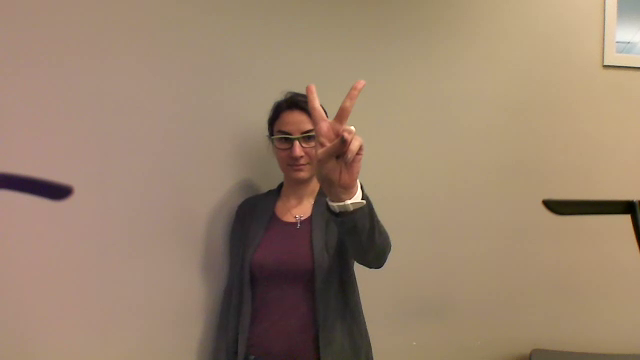peace: (293, 70, 375, 189)
